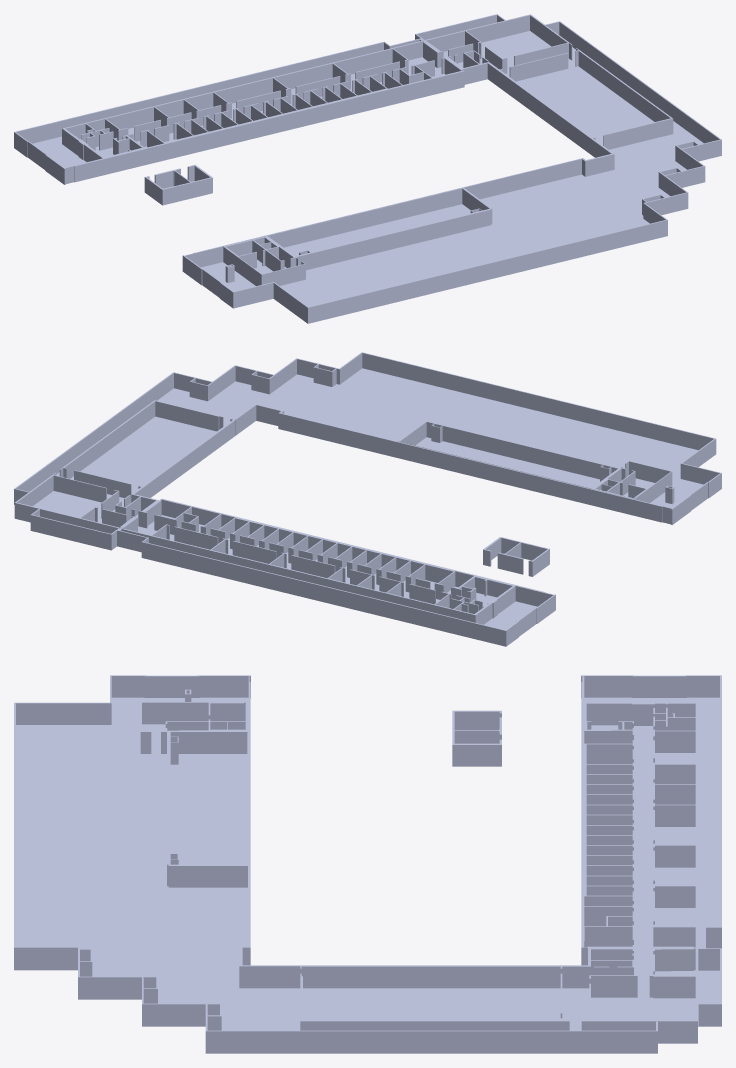
File: fit6.FBX
3 renders of one model, top to bottom at view 1: azimuth 30°, elevation 25°; view 2: azimuth 150°, elevation 25°; view 3: azimuth 270°, elevation 25°, orthographic. The views are drawn at different scales.
Parts seen in each view (by area): view 1: 凸台-拉伸2, 凸台-拉伸1[14]; view 2: 凸台-拉伸2, 凸台-拉伸1[14]; view 3: 凸台-拉伸2, 凸台-拉伸1[14].
Boxes of the visible parts, bbox=[...] form: 凸台-拉伸2: bbox=[14, 14, 721, 323]; 凸台-拉伸1[14]: bbox=[144, 164, 212, 205]; 凸台-拉伸2: bbox=[14, 352, 721, 646]; 凸台-拉伸1[14]: bbox=[483, 537, 549, 576]; 凸台-拉伸2: bbox=[14, 675, 721, 1053]; 凸台-拉伸1[14]: bbox=[452, 710, 501, 766].
Size of the model in its own units: 4152 by 122 by 3488.
